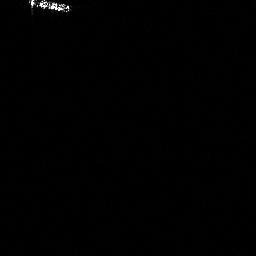ship: (25, 1, 72, 15)
